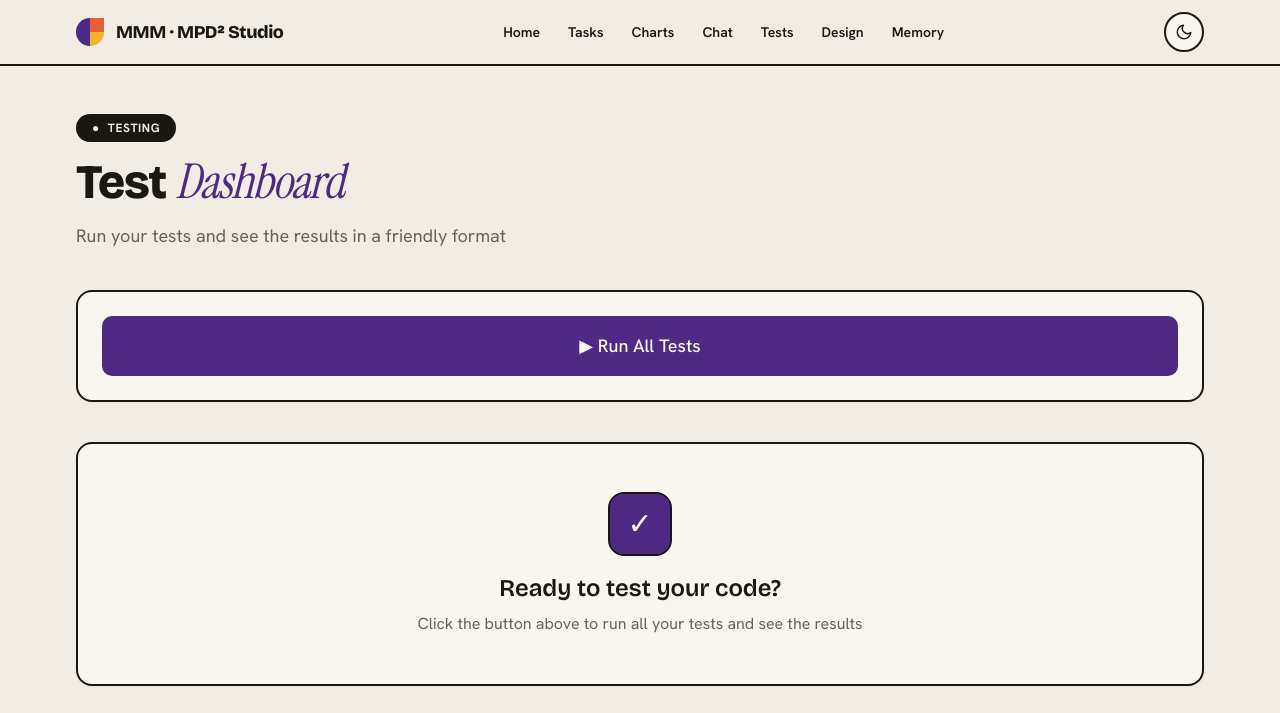
Scenario: TestDashboard › displays successful test results
The image size is (1280, 713).
Step 1. Click the button "▶ Run All Tests" → click(640, 346), box [102,316,1178,376]
(page scrolled)
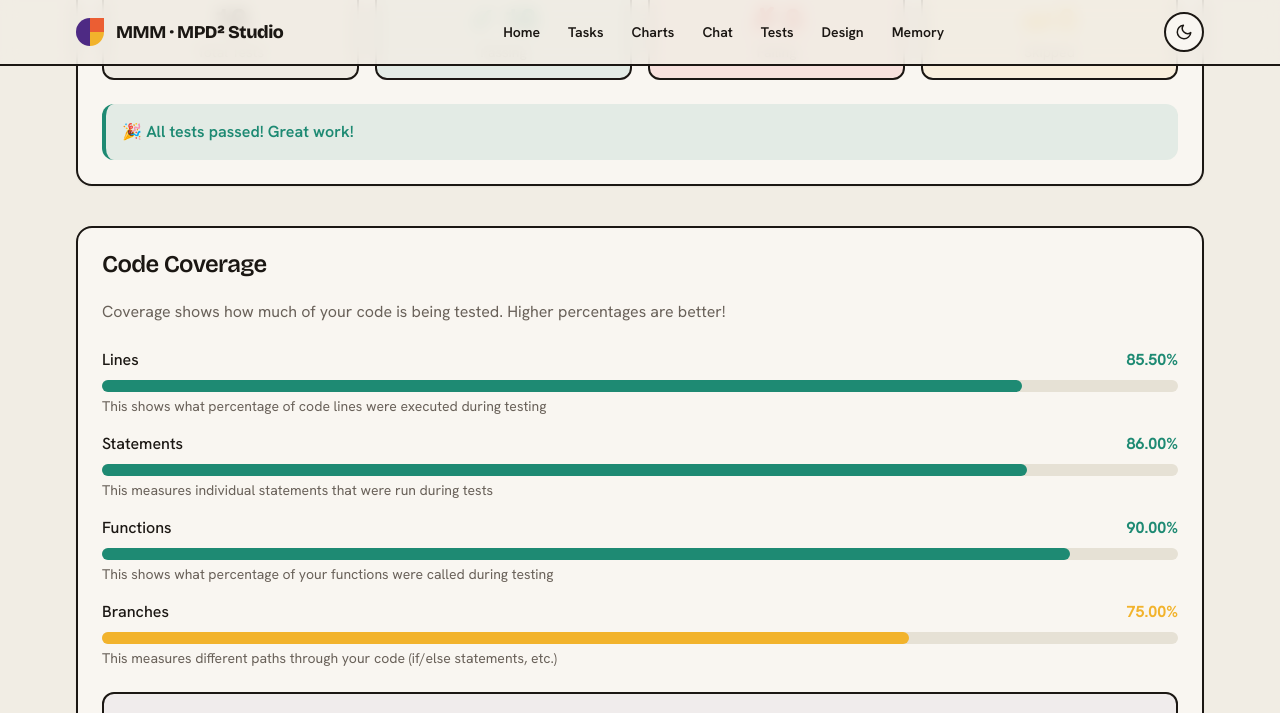
Expected: the text "85.50%" is shown, [1126,348,1178,372]
